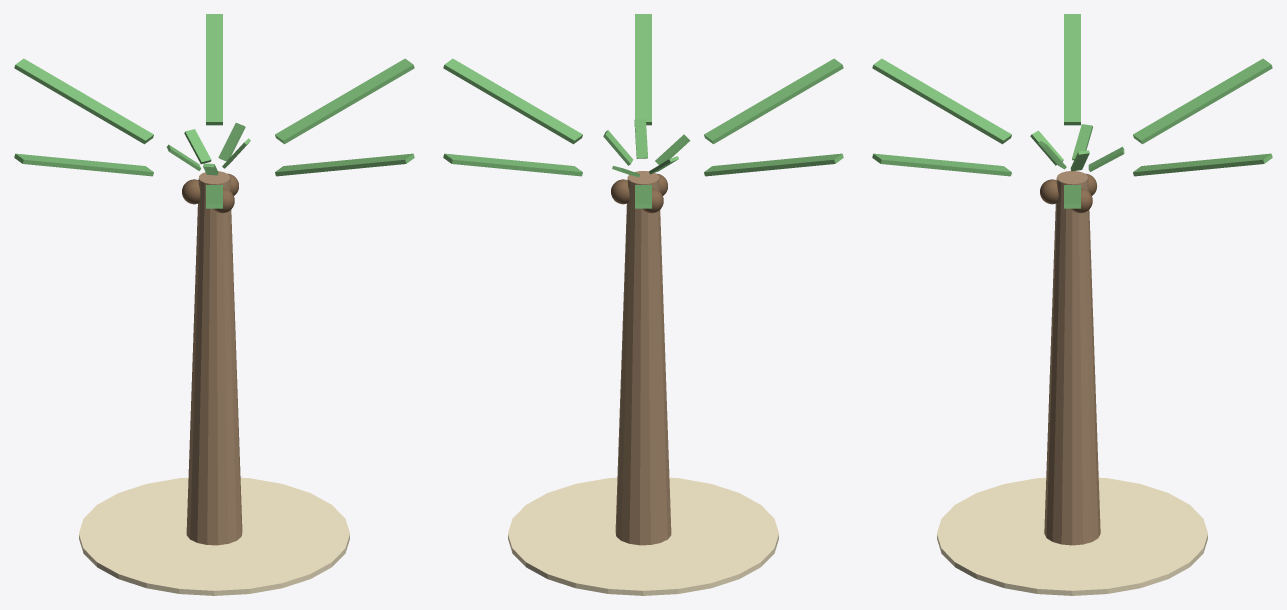
Rendered from palm.glb.
3 views of the same model, side by side, from view 1: azimuth 30°, elevation 25°; view 2: azimuth 150°, elevation 25°; view 3: azimuth 270°, elevation 25° (orthographic).
Visible parts, largest first — view 1: Ground, Trunk, Frond_0, Frond_2, Frond_1, Frond_3, Frond_5; view 2: Ground, Trunk, Frond_0, Frond_4, Frond_5, Frond_1, Frond_3; view 3: Ground, Trunk, Frond_2, Frond_4, Frond_3, Frond_1, Frond_5.
Boxes of the visible parts, left/top/right/bottom form: Ground: left=79, top=477, right=349, bottom=595; Trunk: left=186, top=171, right=242, bottom=545; Frond_0: left=275, top=58, right=414, bottom=144; Frond_2: left=14, top=58, right=153, bottom=144; Frond_1: left=206, top=14, right=222, bottom=125; Frond_3: left=14, top=153, right=153, bottom=176; Frond_5: left=275, top=153, right=414, bottom=176; Ground: left=508, top=477, right=778, bottom=595; Trunk: left=615, top=171, right=671, bottom=545; Frond_0: left=443, top=58, right=582, bottom=144; Frond_4: left=704, top=58, right=843, bottom=144; Frond_5: left=635, top=14, right=651, bottom=125; Frond_1: left=443, top=153, right=582, bottom=176; Frond_3: left=704, top=153, right=843, bottom=176; Ground: left=937, top=477, right=1207, bottom=595; Trunk: left=1044, top=171, right=1100, bottom=545; Frond_2: left=1133, top=58, right=1272, bottom=144; Frond_4: left=872, top=58, right=1011, bottom=144; Frond_3: left=1064, top=14, right=1080, bottom=125; Frond_1: left=1133, top=153, right=1272, bottom=176; Frond_5: left=872, top=153, right=1011, bottom=176.
Size of the model in its own units: 4.01 by 4.19 by 3.54.
